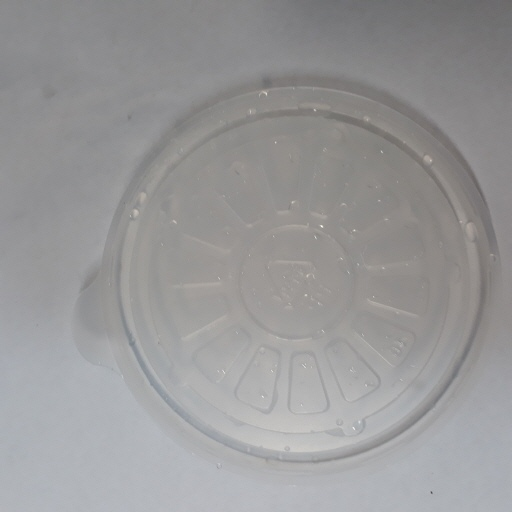Plastic_5: (74, 87, 500, 469)
